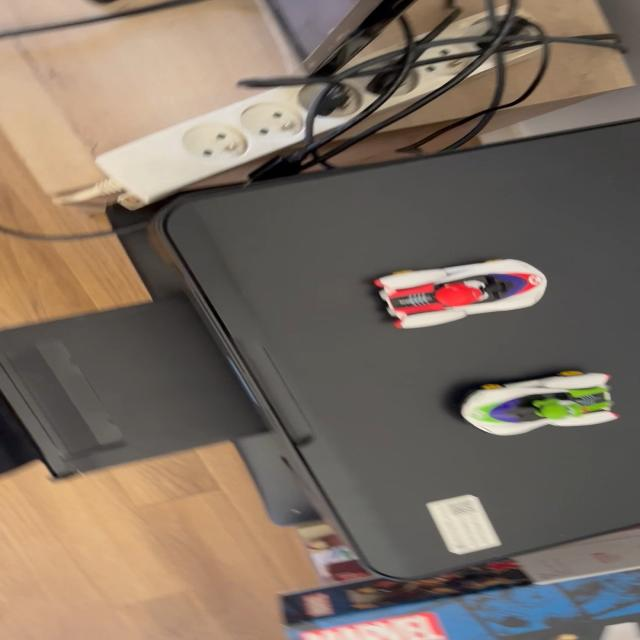mario: (359, 253, 565, 335)
yoshi: (451, 364, 633, 442)
